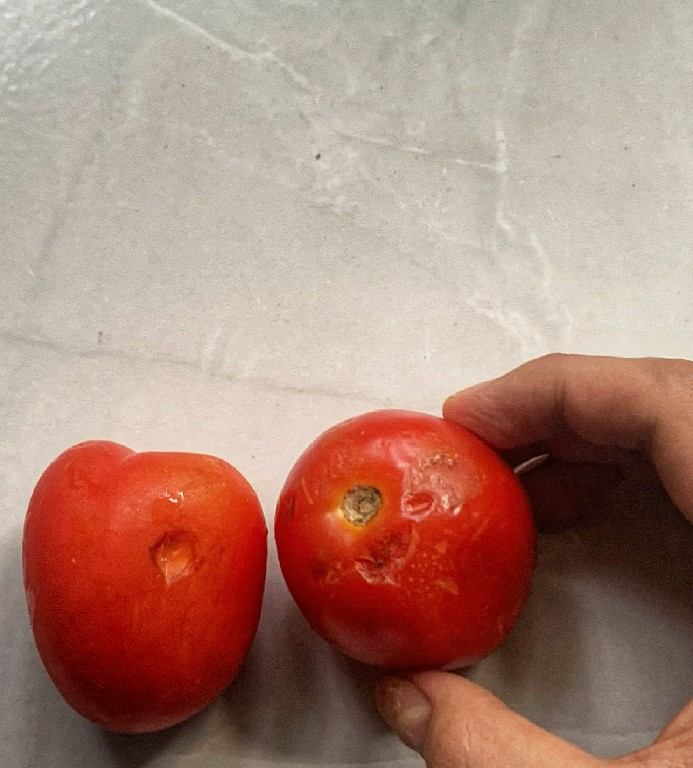NG: (18, 434, 272, 740), (276, 399, 535, 678)
